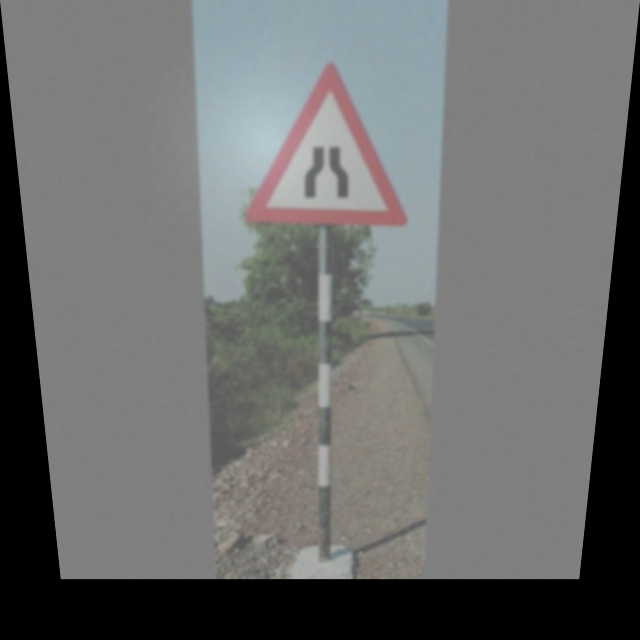Narrow_Road_Ahead: (245, 66, 413, 228)
